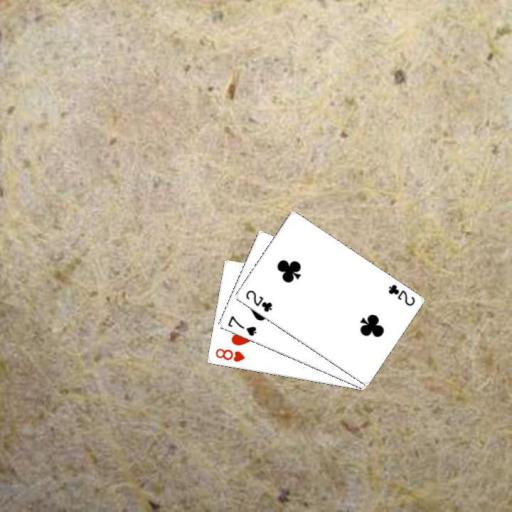2C: (242, 287, 274, 314), (385, 281, 416, 308)
7S: (224, 313, 257, 338)
8H: (212, 346, 246, 364)
